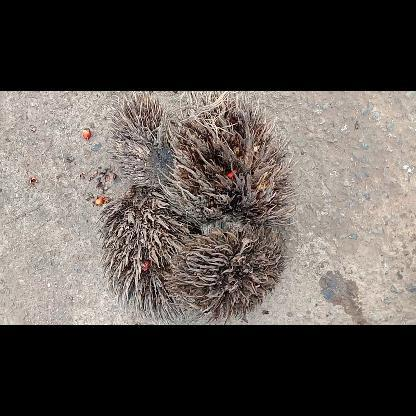Janjang kosong: (158, 90, 296, 233), (98, 186, 202, 324), (166, 226, 286, 324), (106, 90, 174, 188)
